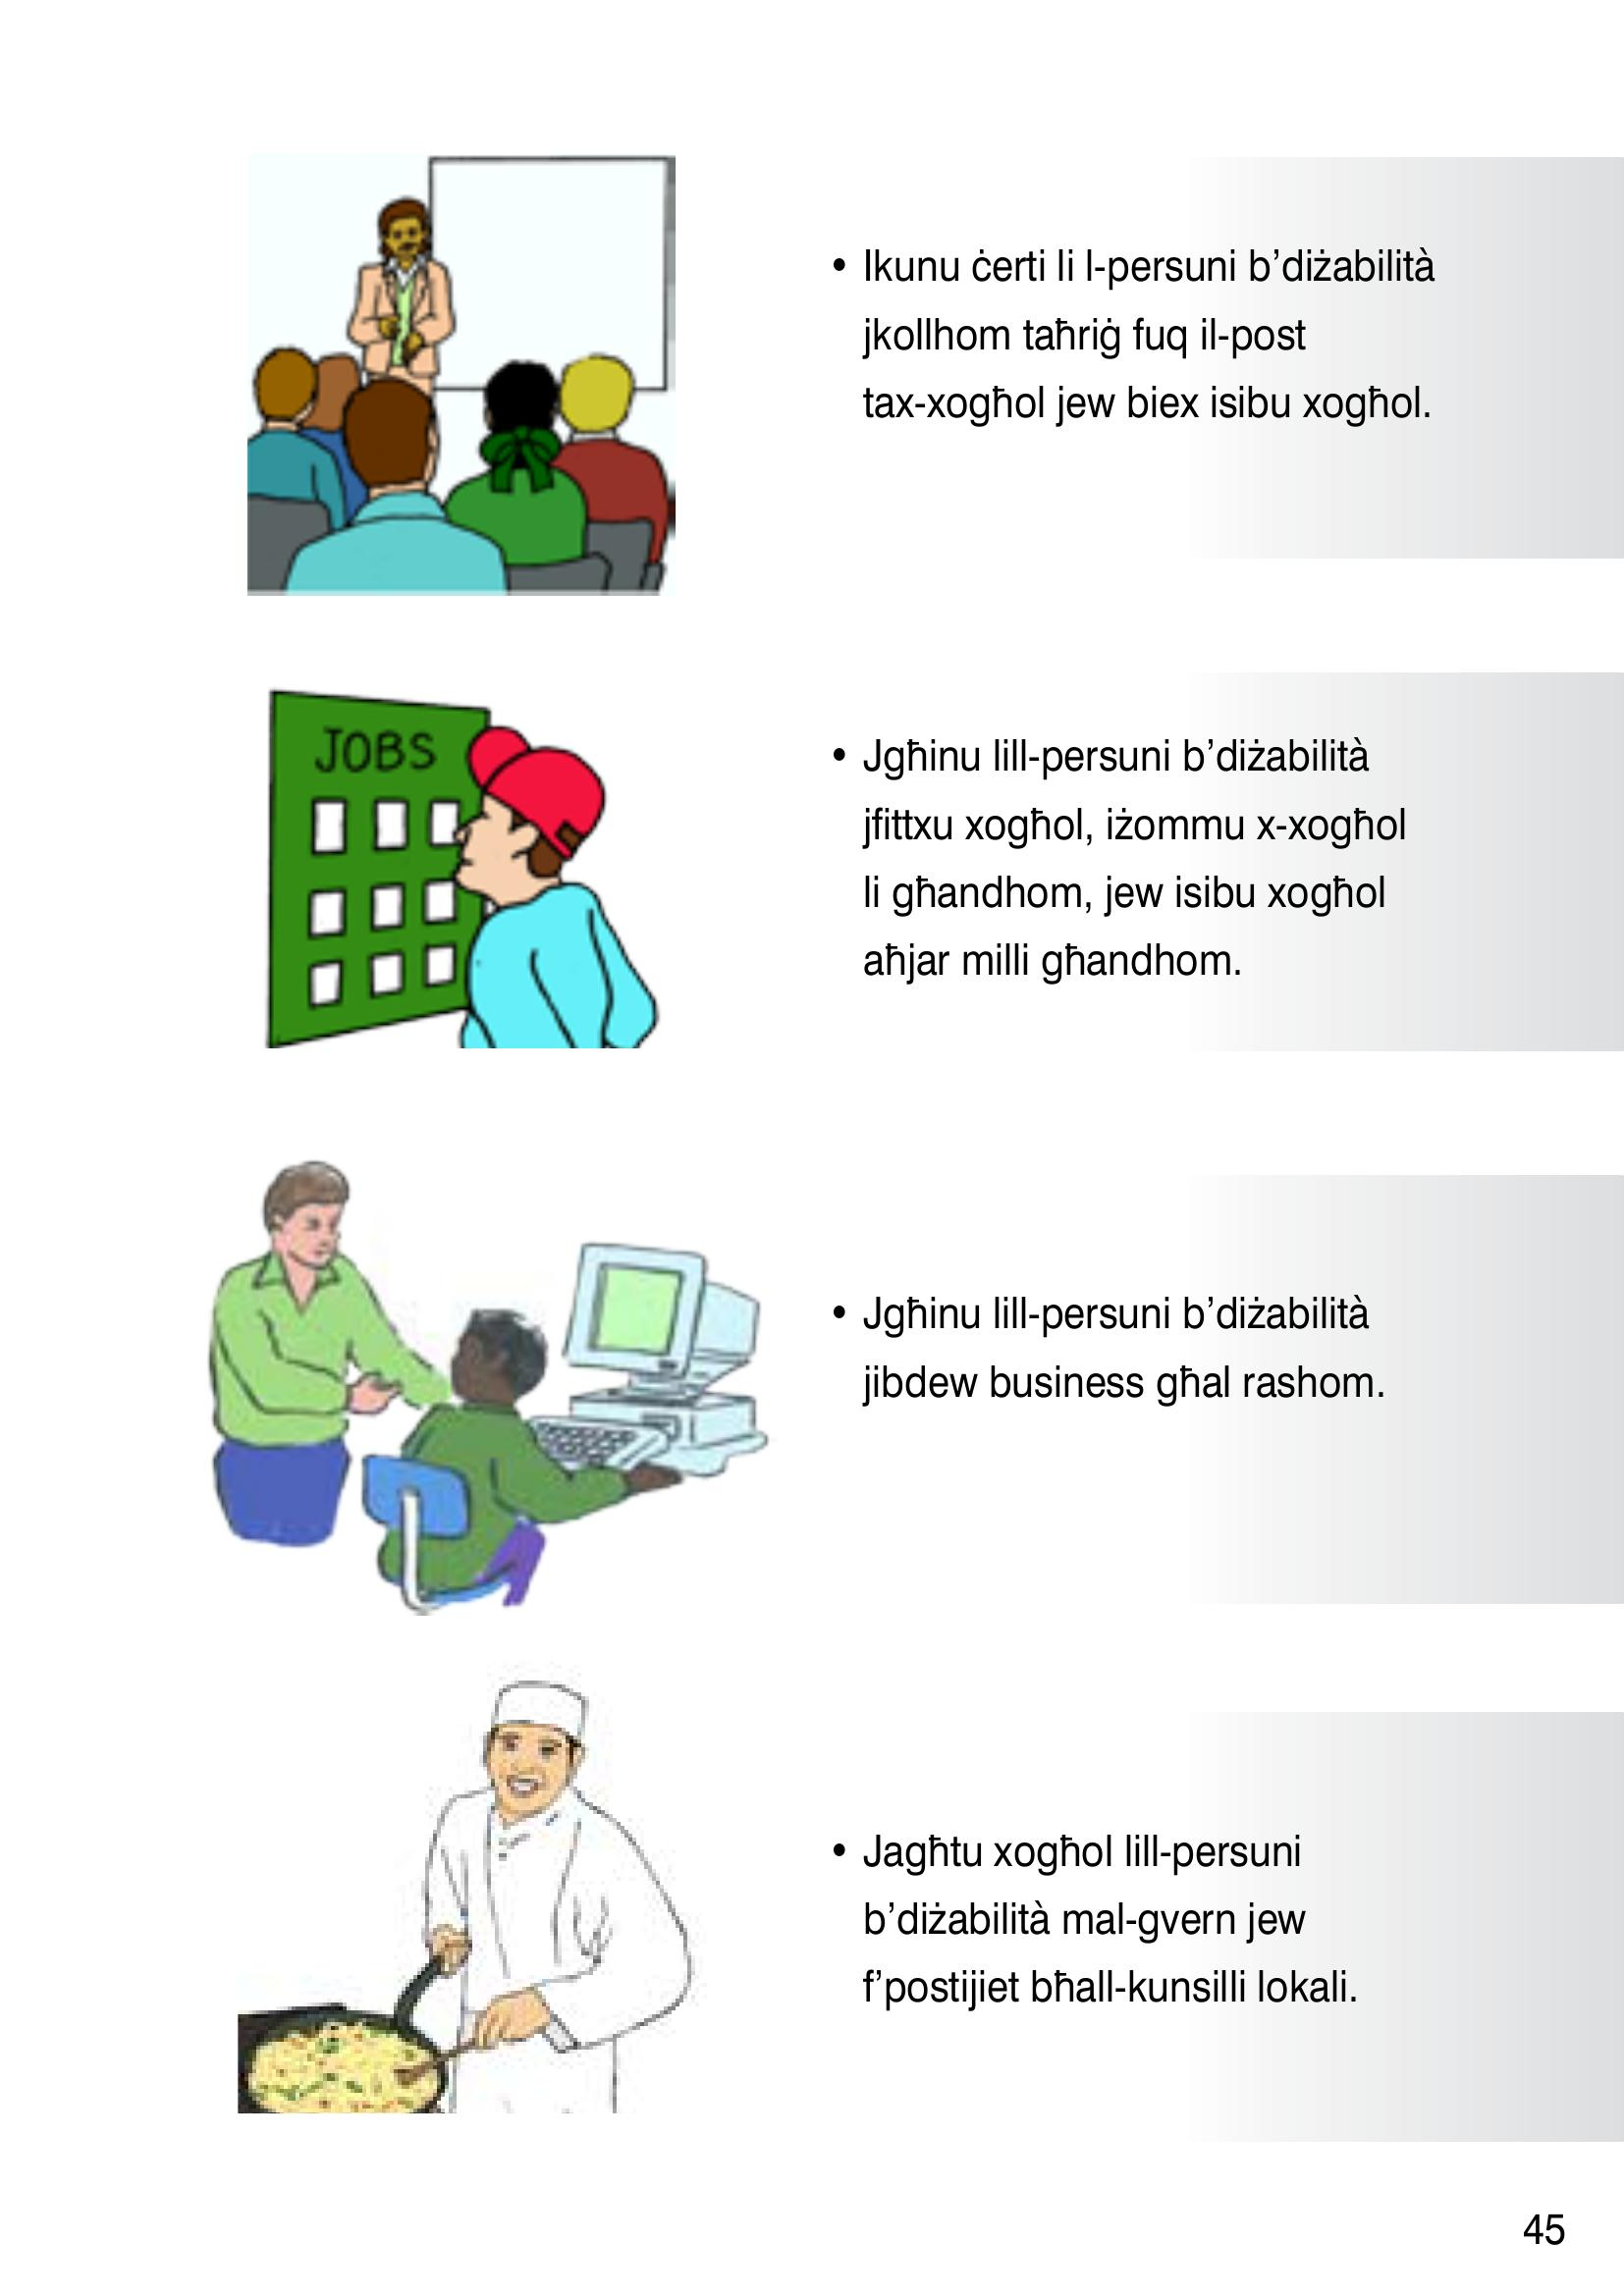text: (791, 207, 1455, 2032)
